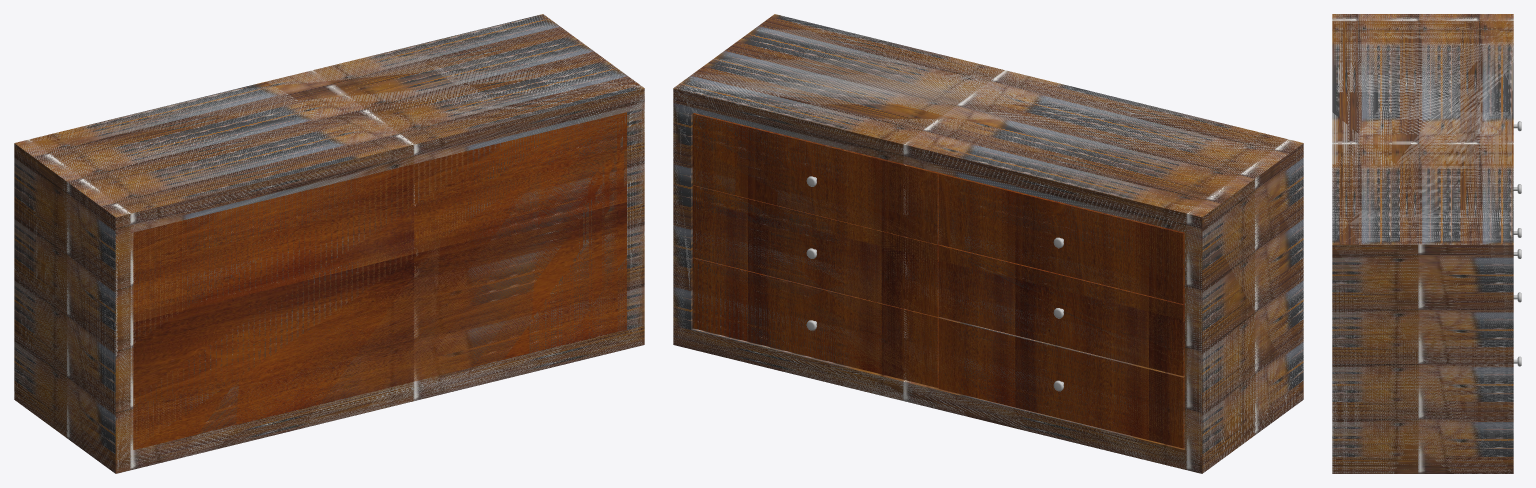
3 views of the same model, side by side, from view 1: azimuth 30°, elevation 25°; view 2: azimuth 150°, elevation 25°; view 3: azimuth 270°, elevation 25° (orthographic). The views are drawn at different scales.
Parts seen in each view (by area): view 1: mesh1_mesh1-geometry; view 2: mesh1_mesh1-geometry; view 3: mesh1_mesh1-geometry, mesh2_mesh2-geometry.
Boxes of the visible parts, x1=… form: mesh1_mesh1-geometry: x1=14, y1=14, x2=644, y2=473; mesh1_mesh1-geometry: x1=673, y1=14, x2=1303, y2=473; mesh1_mesh1-geometry: x1=1332, y1=14, x2=1513, y2=473; mesh2_mesh2-geometry: x1=1513, y1=121, x2=1521, y2=366.
Bounding box in the file's own units: 0.8654 × 0.4011 × 0.3004.
